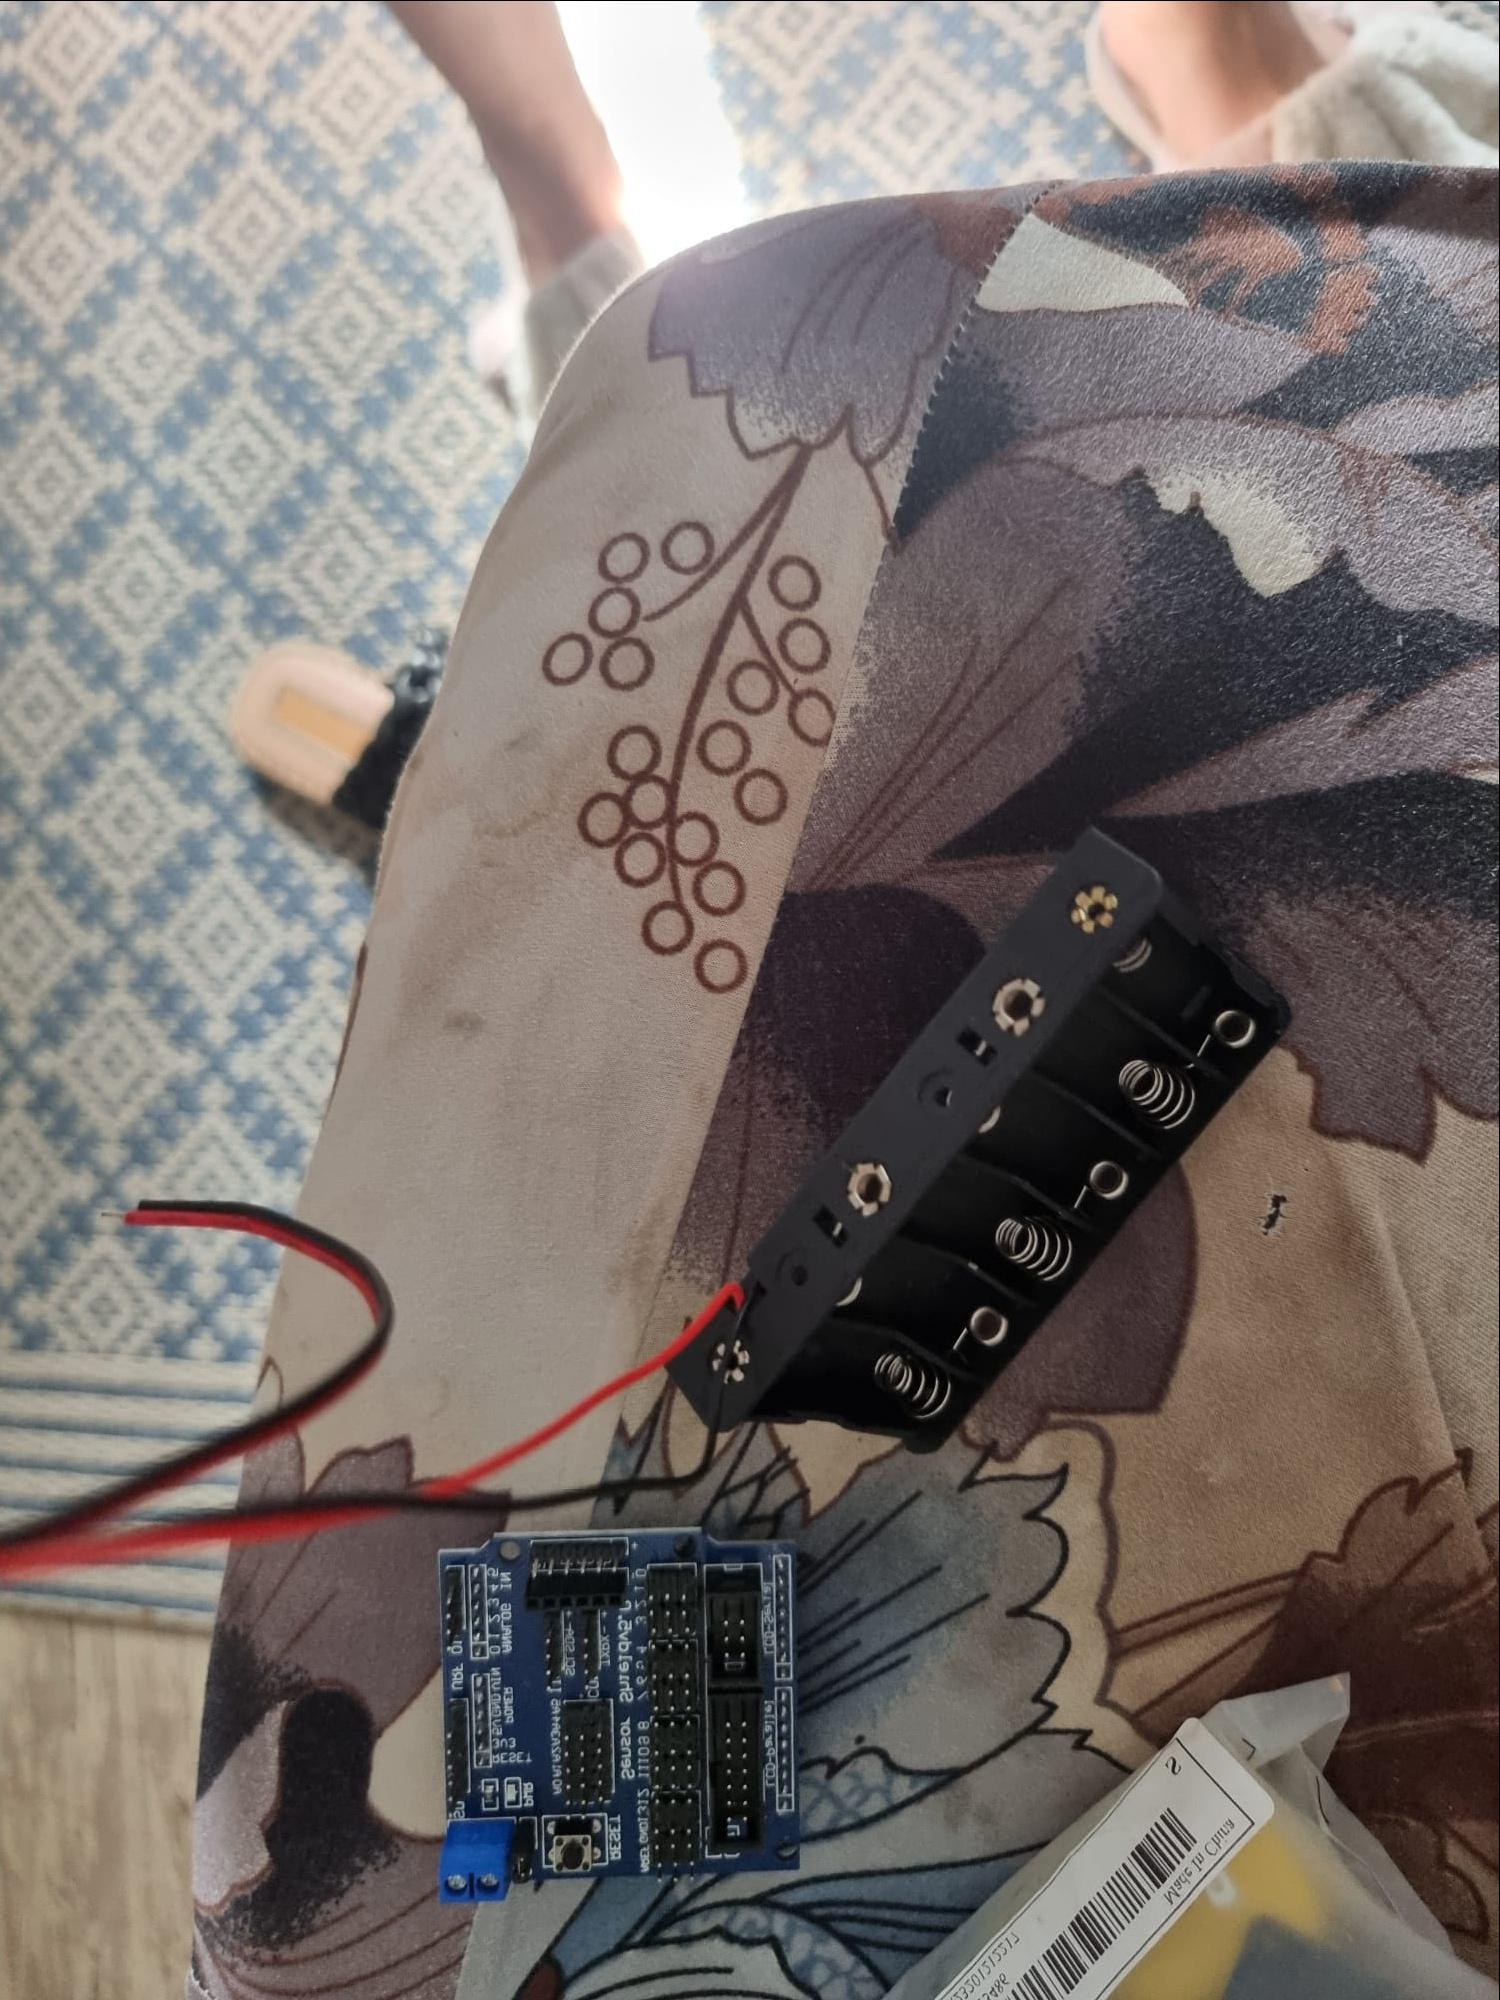5V EXPANSION: (425, 1515, 800, 1915)
BATTERY BOX: (704, 798, 1295, 1439)
